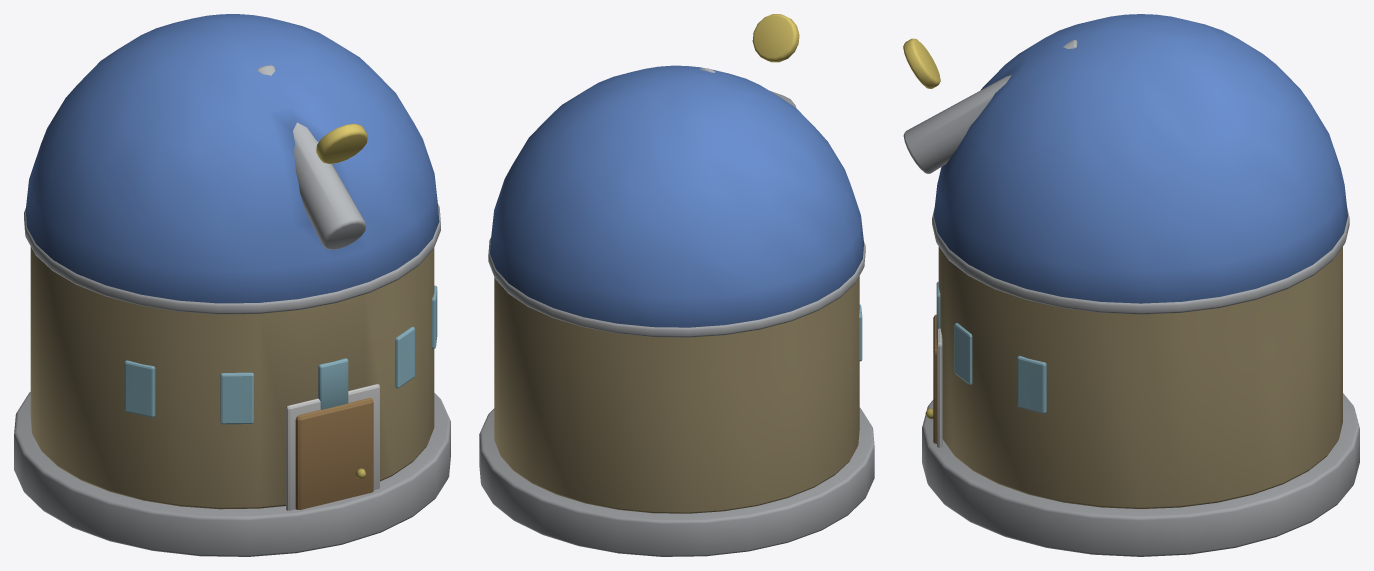
File: atelier5.glb
The picture shows the model from 3 angles, left to right: view 1: azimuth 30°, elevation 25°; view 2: azimuth 150°, elevation 25°; view 3: azimuth 270°, elevation 25°; orthographic projection. The views are drawn at different scales.
Parts seen in each view (by area): view 1: coupole__roof, murs__wall, socle__stone, porte__wood, bandeau__stone, lunette__metal, chambr__frame, fen__glass.001, fen__glass, oculaire__gold, fen__glass.002, fen__glass.003; view 2: coupole__roof, murs__wall, socle__stone, bandeau__stone, oculaire__gold; view 3: coupole__roof, murs__wall, socle__stone, bandeau__stone, lunette__metal, fen__glass.004, oculaire__gold, fen__glass.003, chambr__frame.
Boxes of the visible parts, x1,y1,x2,y2 form: coupole__roof: (25,14,439,303); murs__wall: (30,247,434,509); socle__stone: (14,392,450,556); porte__wood: (295,398,373,509); bandeau__stone: (24,204,440,314); lunette__metal: (257,65,366,249); chambr__frame: (286,384,379,510); fen__glass.001: (220,372,253,424); fen__glass: (124,360,155,417); oculaire__gold: (316,123,367,163); fen__glass.002: (318,358,348,409); fen__glass.003: (395,326,414,388); coupole__roof: (490,65,863,327); murs__wall: (494,276,859,513); socle__stone: (479,407,874,556); bandeau__stone: (488,238,865,337); oculaire__gold: (752,14,799,62); coupole__roof: (934,14,1347,303); murs__wall: (938,246,1342,508); socle__stone: (922,393,1359,556); bandeau__stone: (932,208,1349,314); lunette__metal: (903,39,1077,173); fen__glass.004: (1017,356,1046,413); oculaire__gold: (903,38,940,88); fen__glass.003: (954,323,972,384); chambr__frame: (937,328,942,447).
Bounding box in the file's own units: 3.9 × 4.25 × 4.07.
